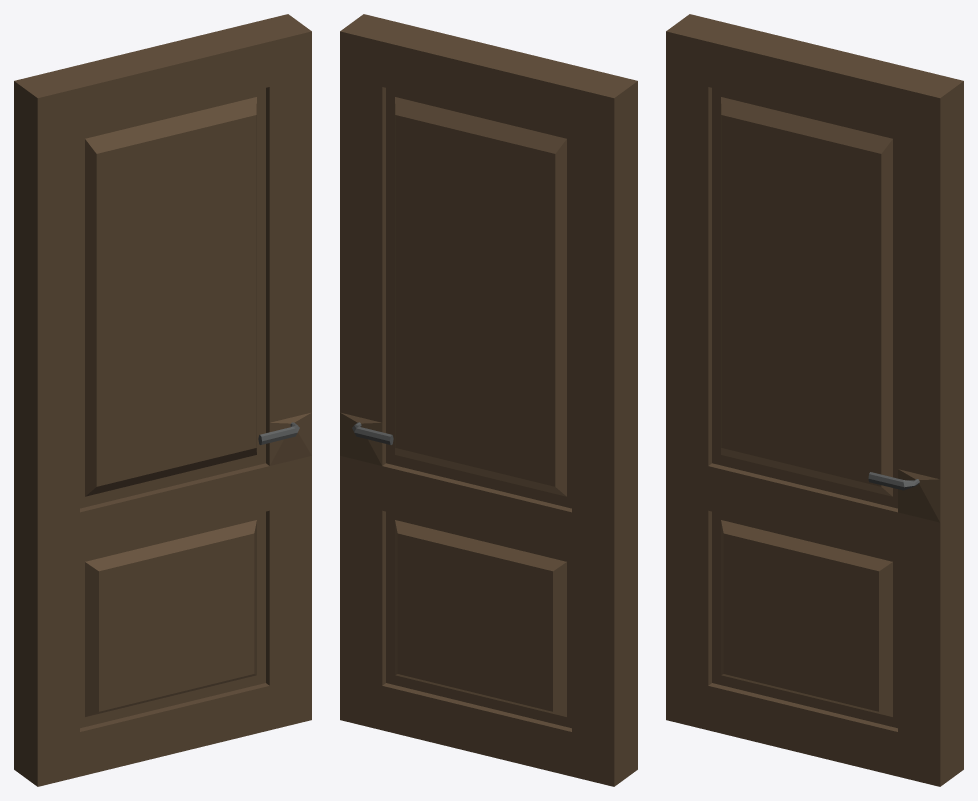
The model's file is Door.fbx.
3 views of the same model, side by side, from view 1: azimuth 30°, elevation 25°; view 2: azimuth 150°, elevation 25°; view 3: azimuth 330°, elevation 25° (orthographic).
Parts seen in each view (by area): view 1: Cube.003; view 2: Cube.003; view 3: Cube.003, Handle.
Boxes of the visible parts, <box> form: Cube.003: <box>14,14,311,786</box>; Cube.003: <box>340,14,637,786</box>; Cube.003: <box>666,14,963,786</box>; Handle: <box>868,472,919,490</box>.
Bounding box in the file's own units: 100 × 240 × 28.85.
